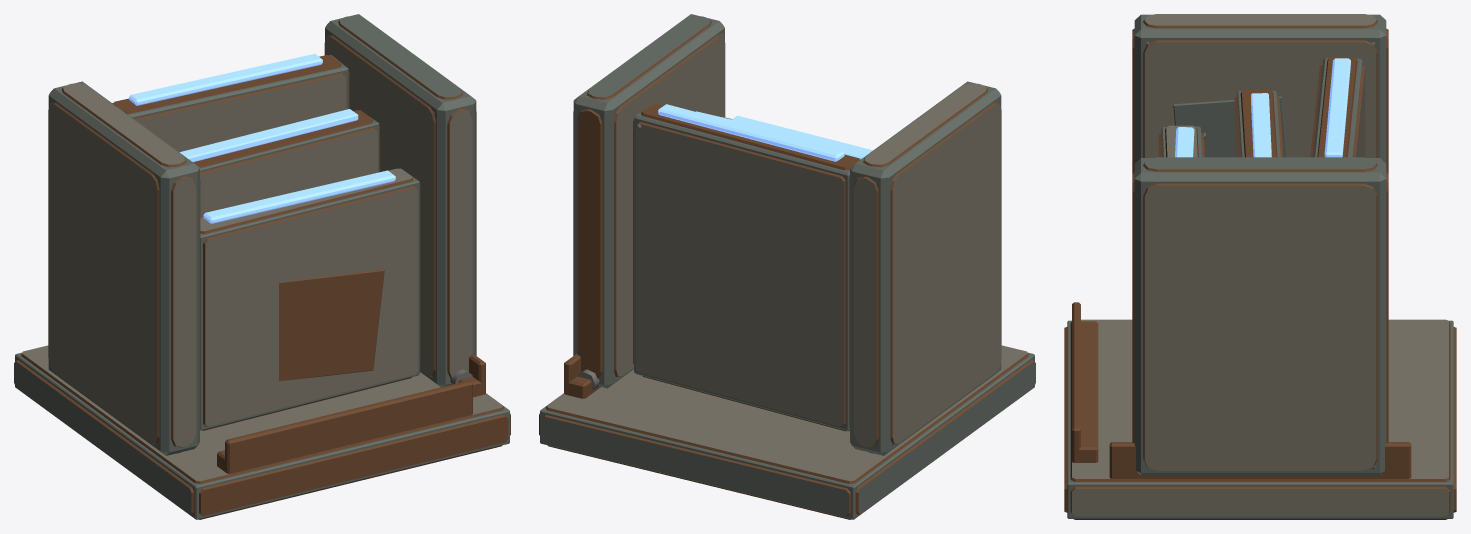
File: R4X_WallDeployer.fbx
3 renders of one model, left to right at view 1: azimuth 30°, elevation 25°; view 2: azimuth 150°, elevation 25°; view 3: azimuth 270°, elevation 25°, orthographic. The views are drawn at different scales.
Visible parts, largest first — view 1: R4X_WallDeployer_Body, R4X_WallDeployer_Panels; view 2: R4X_WallDeployer_Body, R4X_WallDeployer_Panels; view 3: R4X_WallDeployer_Body, R4X_WallDeployer_Panels.
Part boxes in pixels (left/top/right/bottom): R4X_WallDeployer_Body: left=14, top=14, right=510, bottom=519; R4X_WallDeployer_Panels: left=112, top=54, right=420, bottom=430; R4X_WallDeployer_Body: left=539, top=14, right=1035, bottom=519; R4X_WallDeployer_Panels: left=633, top=103, right=872, bottom=431; R4X_WallDeployer_Body: left=1064, top=14, right=1456, bottom=519; R4X_WallDeployer_Panels: left=1158, top=57, right=1365, bottom=157.
Size of the model in its own units: 0.52 by 0.51 by 0.52.
